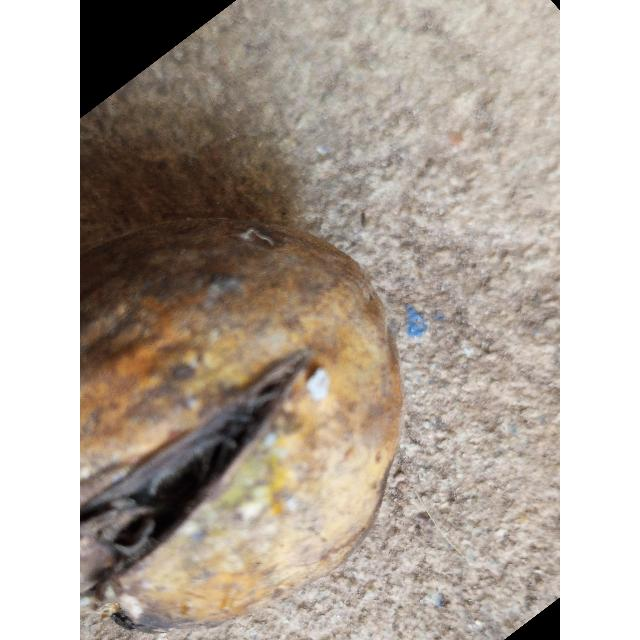damaged: (80, 219, 402, 630)
